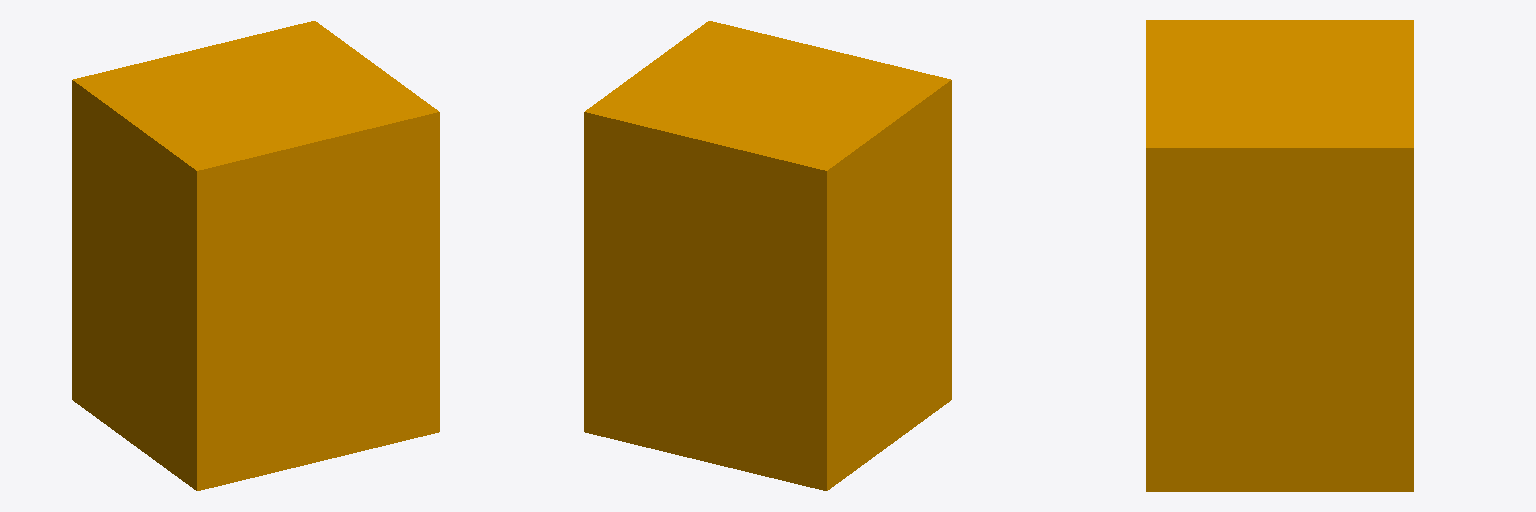
URDF robot description (Zippy):
<?xml version="1.0"?>
<robot name="Zippy">
  <link name="Body">
    <visual>
      <geometry>
        <box size="29.4 26.2 37.1"/>
      </geometry>
    </visual>
  </link>
</robot>

--- Render facts (derived) ---
3 views of the same robot in one strip: view 1: azimuth 30°, elevation 25°; view 2: azimuth 150°, elevation 25°; view 3: azimuth 270°, elevation 25° (orthographic).
Robot: Zippy — 1 links, 0 joints (none); root link Body; default pose: all joints at 0.
Links seen in each view (by area): view 1: Body; view 2: Body; view 3: Body.
Link boxes in pixels (x1,y1,x2,y2): Body: [72, 21, 439, 490]; Body: [584, 21, 951, 490]; Body: [1146, 20, 1413, 491].
Bounding box of the posed robot: 29.4 × 26.2 × 37.1 m (x, y, z).
Geometry: primitives only (box / cylinder / sphere), no mesh files.